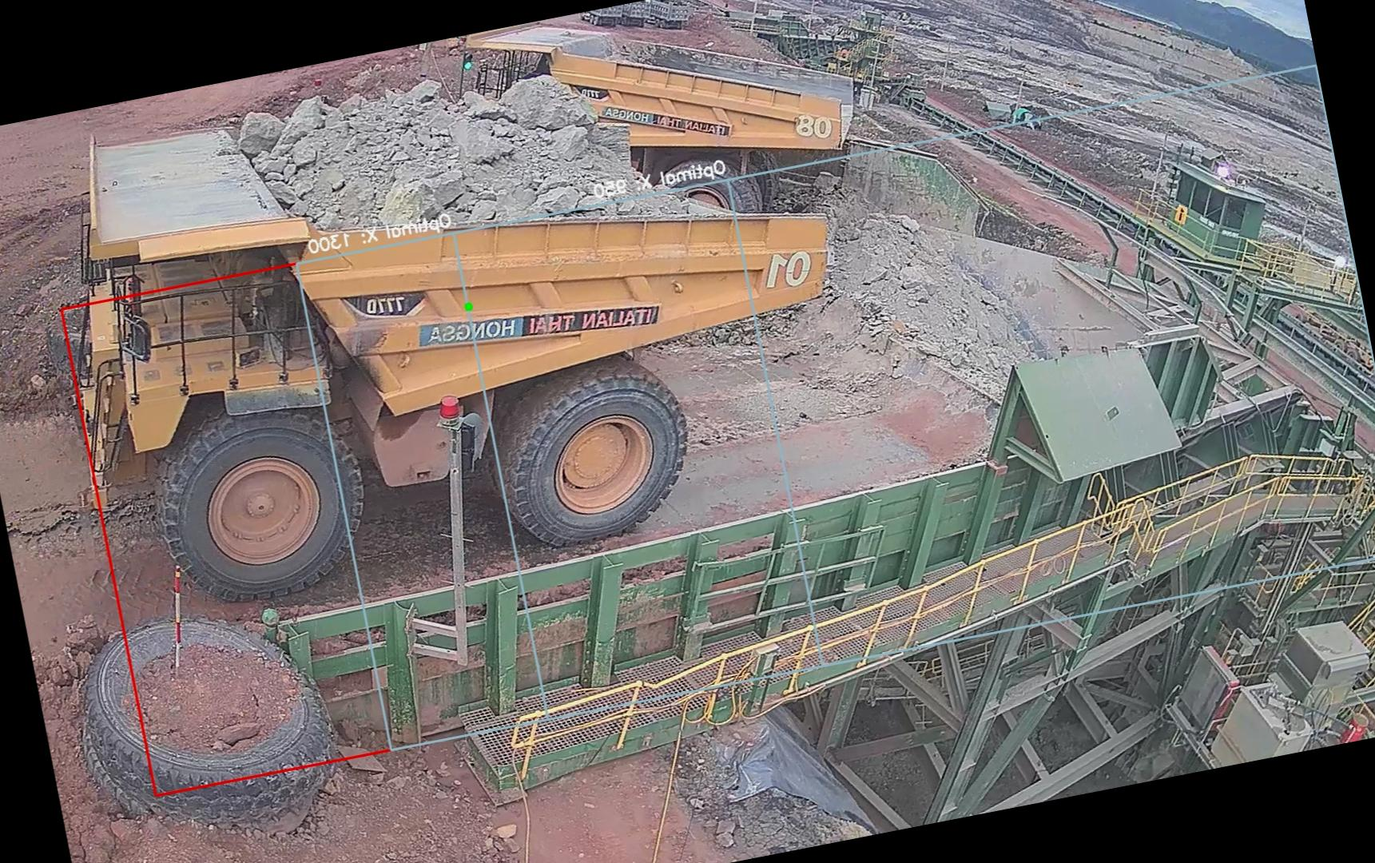company: (395, 268, 686, 378)
full_load: (260, 56, 617, 273)
mining_truck: (19, 0, 892, 638)
tail_number: (750, 237, 825, 305)
truck_size: (335, 271, 435, 329)
